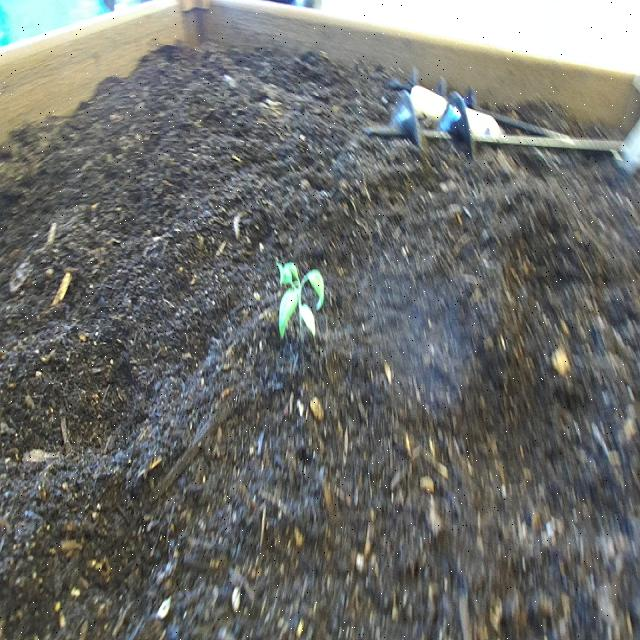Healthy: (271, 257, 328, 348)
